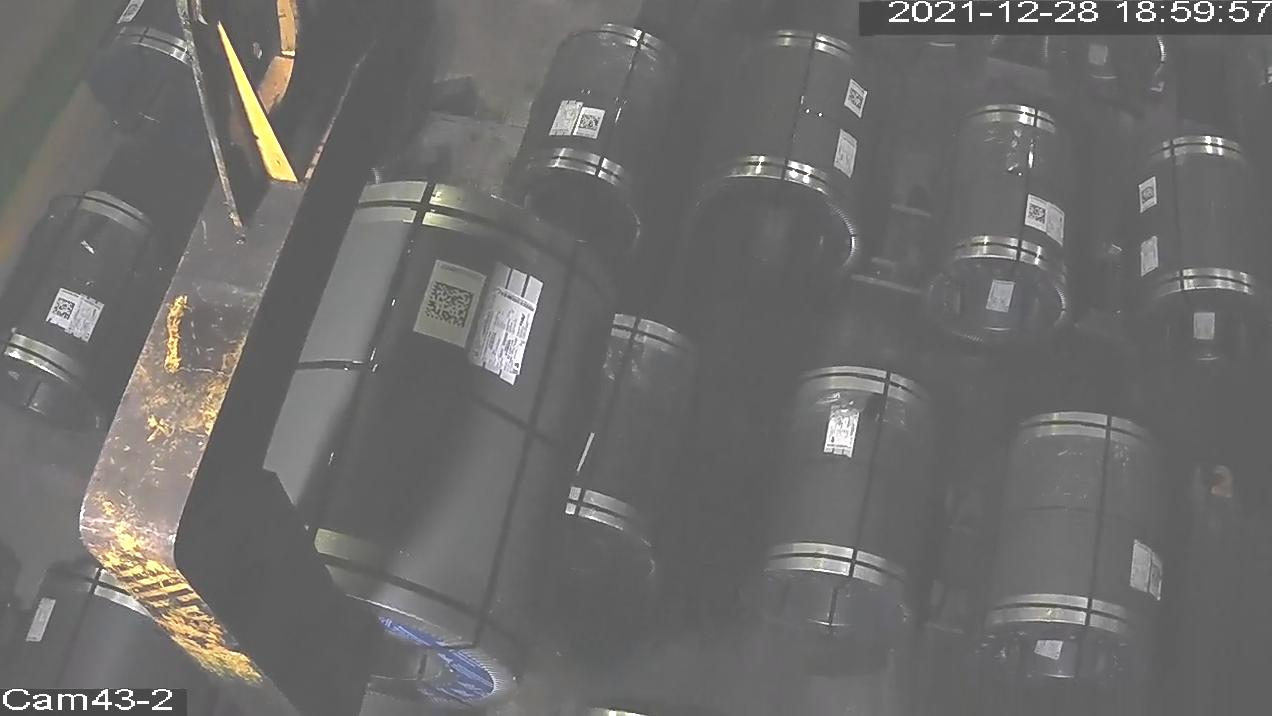data matrix: (419, 278, 478, 333), (51, 296, 77, 322), (576, 112, 603, 134), (846, 85, 866, 112), (1026, 202, 1049, 225), (1139, 183, 1158, 207)
